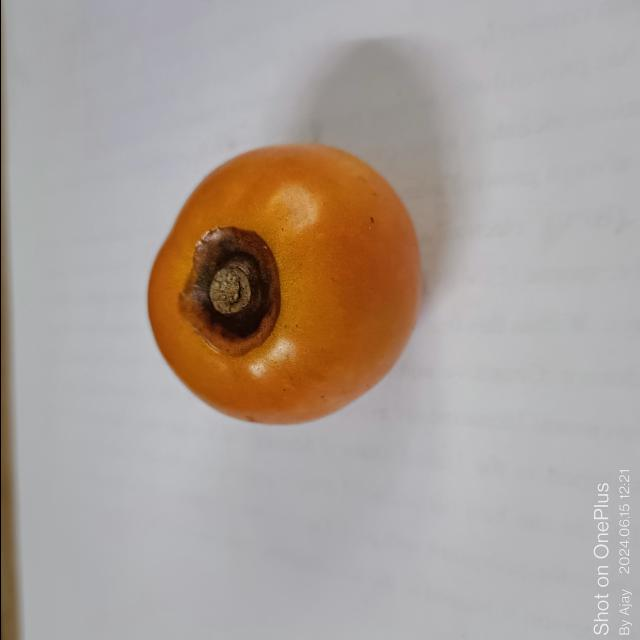Anthrocnose: (174, 224, 276, 360)
